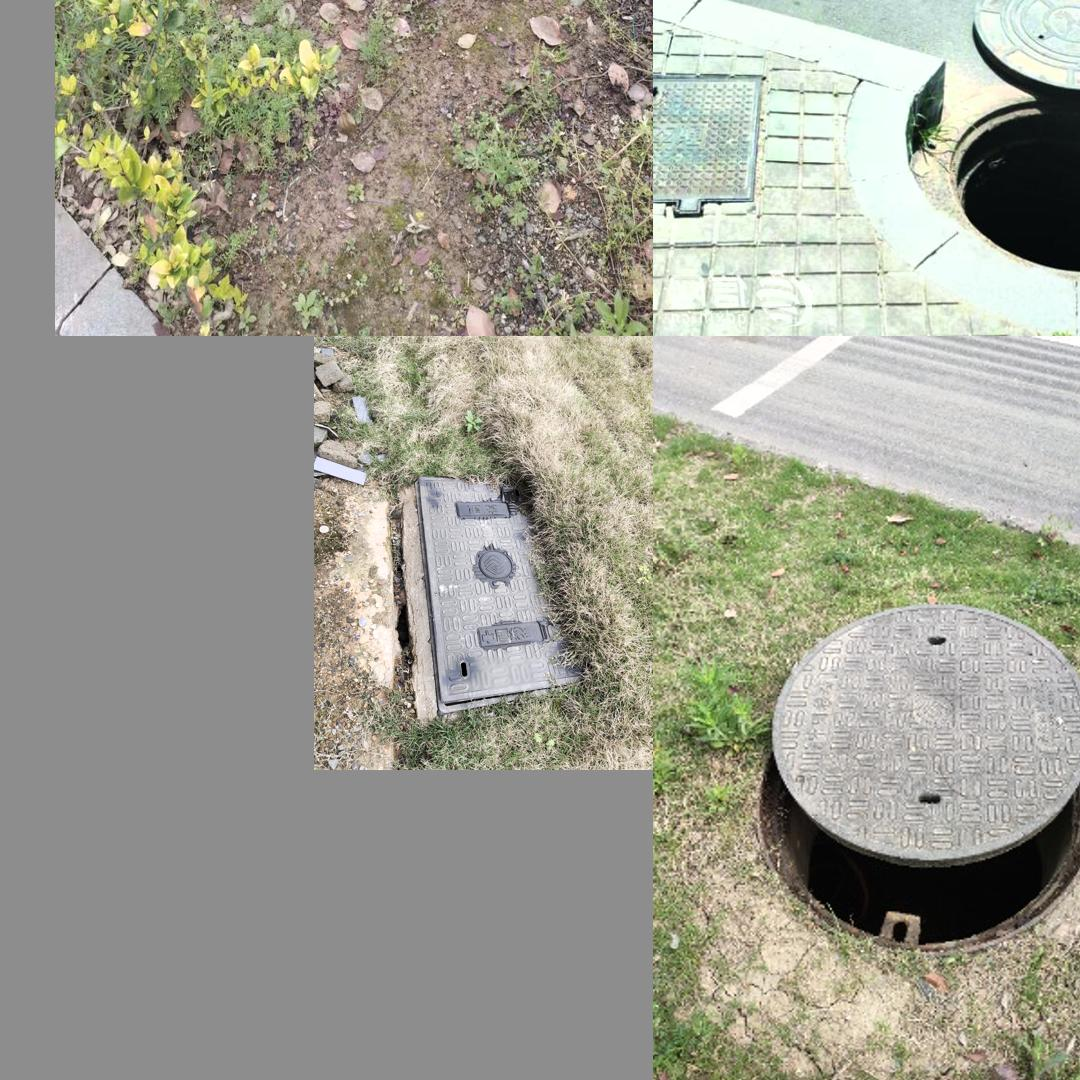uncovered: (755, 602, 1080, 946), (415, 476, 587, 713), (940, 0, 1080, 281)
